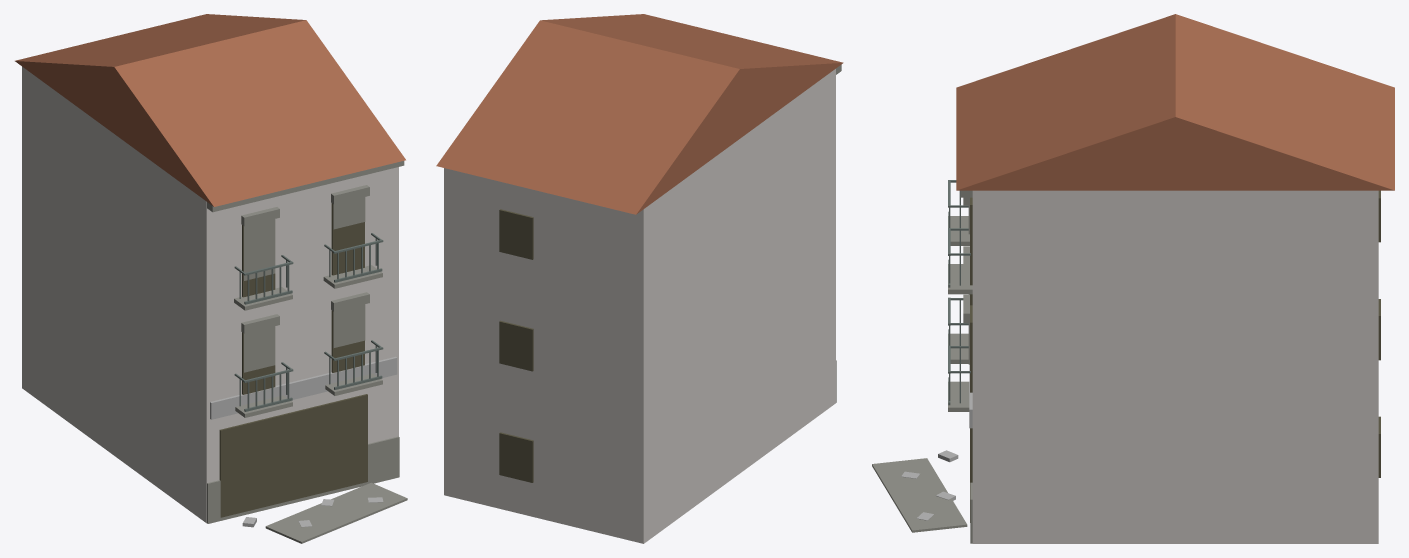
File: SM_BajoComercial_v3_Saqueada_LOD0.fbx
3 views of the same model, side by side, from view 1: azimuth 30°, elevation 25°; view 2: azimuth 150°, elevation 25°; view 3: azimuth 270°, elevation 25° (orthographic). The views are drawn at different scales.
Visible parts, largest first — view 1: SM_pueblo_valenciano_v8_LOD0; view 2: SM_pueblo_valenciano_v8_LOD0; view 3: SM_pueblo_valenciano_v8_LOD0.
Part boxes in pixels (bbox=[...]): SM_pueblo_valenciano_v8_LOD0: bbox=[15, 14, 407, 543]; SM_pueblo_valenciano_v8_LOD0: bbox=[436, 14, 843, 543]; SM_pueblo_valenciano_v8_LOD0: bbox=[872, 14, 1394, 543].
Size of the model in its own units: 6 by 11.6 by 12.87.
